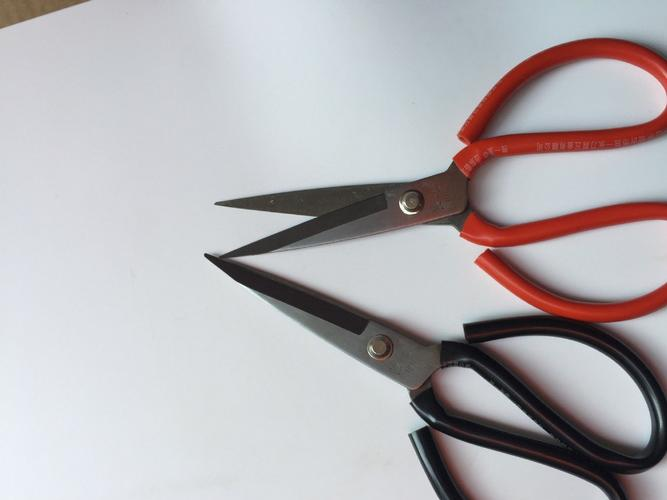scissor: (208, 35, 667, 326), (202, 250, 667, 500)
